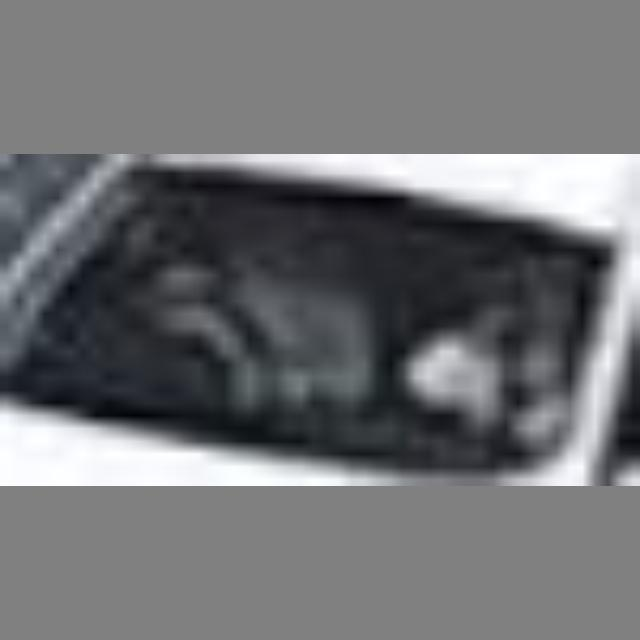pakai: (141, 218, 358, 397)
